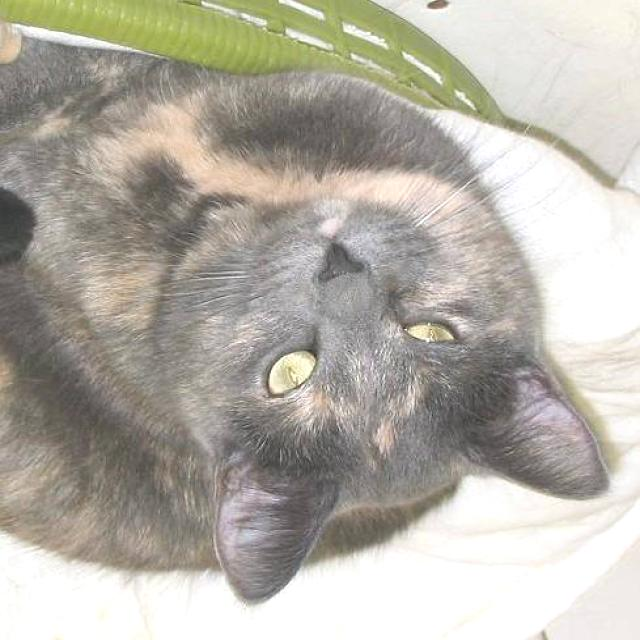Kucing: (9, 8, 640, 600)
